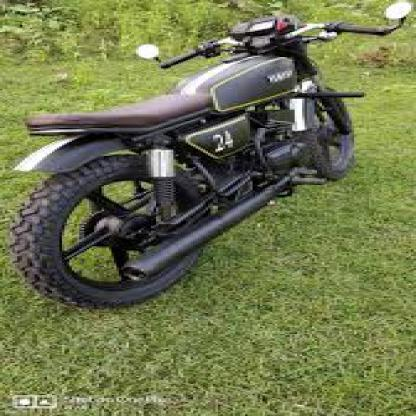Motorcycle: (3, 0, 414, 312)
